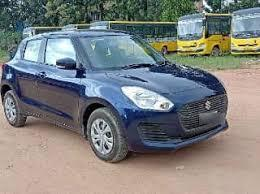non-ambulance: (1, 30, 227, 161), (90, 21, 176, 53), (177, 13, 230, 55), (231, 7, 259, 54), (23, 27, 61, 37)
